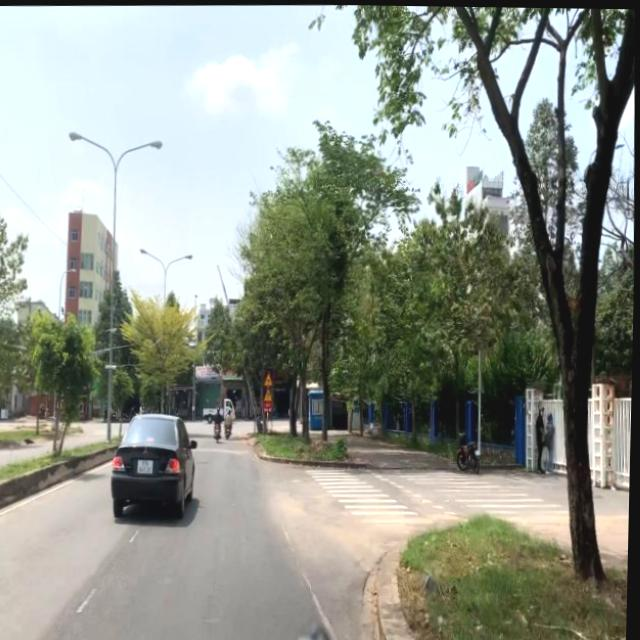Duong giao nhau cung cap: (265, 371, 275, 387)
Nguoi di bo cat ngang: (265, 387, 274, 401)
